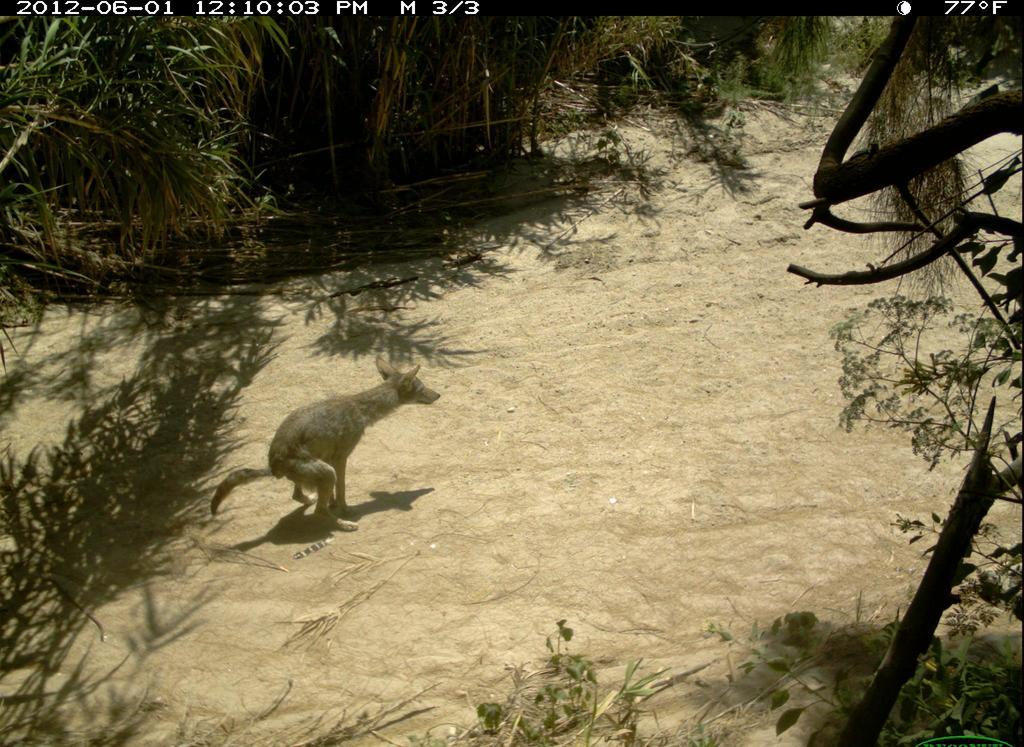coyote: (205, 353, 450, 534)
